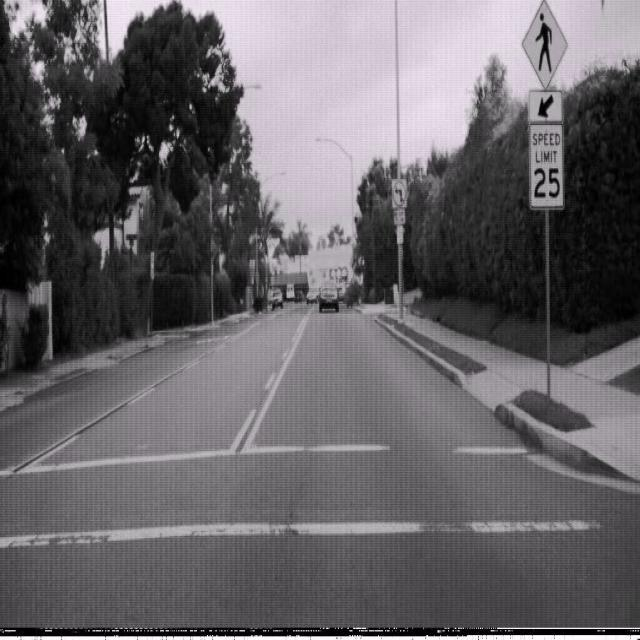noLeftTurn: (391, 177, 406, 207)
speedLimit25: (529, 121, 564, 210)
